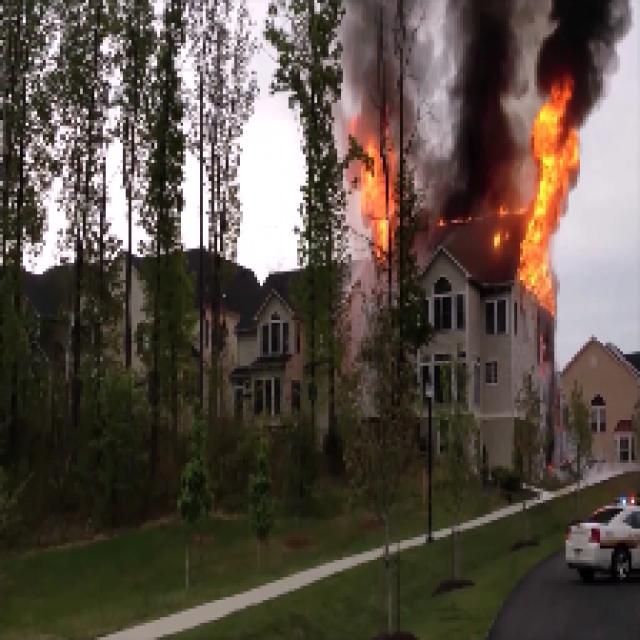fire: (521, 104, 576, 306)
smoke: (444, 6, 508, 210), (537, 1, 603, 85)
